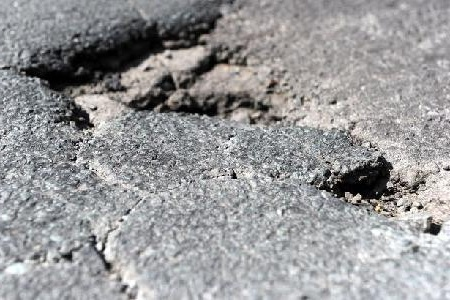pothole: (16, 0, 319, 137), (310, 149, 449, 235)
